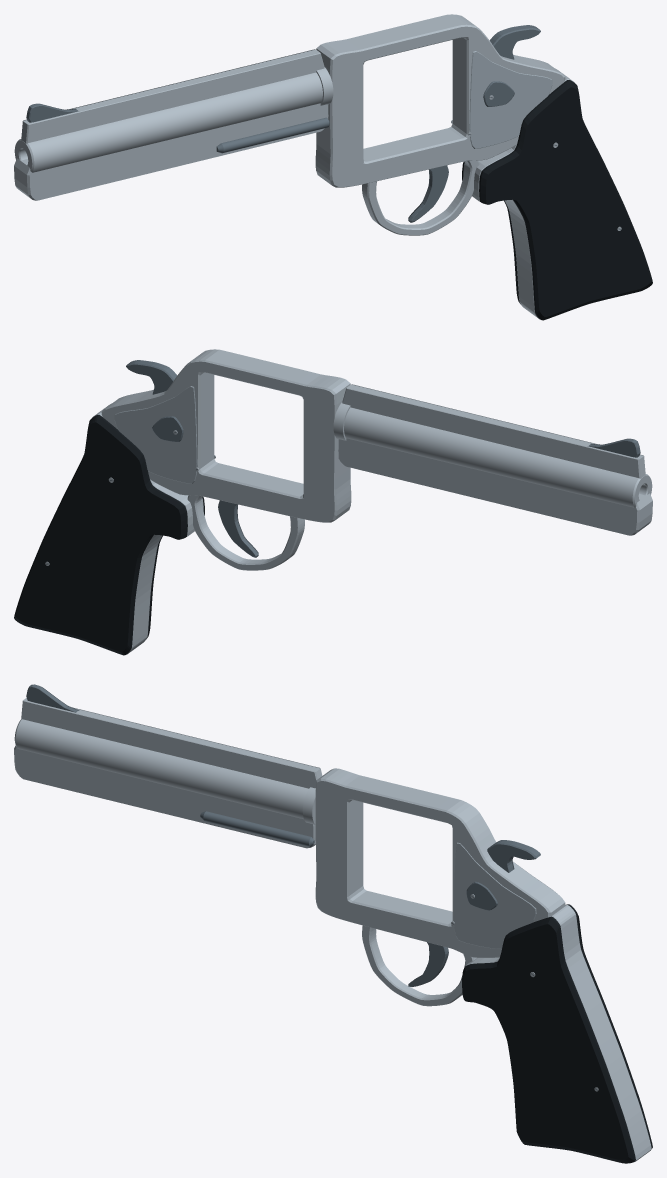
Rendered from body_v02.glb.
3 views of the same model, one above another, from view 1: azimuth 30°, elevation 25°; view 2: azimuth 150°, elevation 25°; view 3: azimuth 330°, elevation 25° (orthographic).
Parts seen in each view (by area): view 1: BlackRoundedGrip, OpenCylinderFrame, HollowRoundBarrel, FullLengthLowerShroud, UpperBarrelRib, RearSidePlate, OpenCurvedTriggerGuard, CurvedGripFrame, RecessedEjectorRod, CurvedTrigger, ExposedCurvedHammer, CylinderReleaseLatch (+1 smaller); view 2: BlackRoundedGrip, OpenCylinderFrame, HollowRoundBarrel, FullLengthLowerShroud, UpperBarrelRib, RearSidePlate, OpenCurvedTriggerGuard, CurvedGripFrame, CurvedTrigger, ExposedCurvedHammer, CylinderReleaseLatch, FrontSight; view 3: BlackRoundedGrip, OpenCylinderFrame, HollowRoundBarrel, FullLengthLowerShroud, UpperBarrelRib, CurvedGripFrame, RearSidePlate, OpenCurvedTriggerGuard, RecessedEjectorRod, ExposedCurvedHammer, CurvedTrigger.
Boxes of the visible parts, x1,y1,x2,y2 form: BlackRoundedGrip: (462, 80, 652, 320); OpenCylinderFrame: (315, 14, 565, 187); HollowRoundBarrel: (14, 72, 322, 172); FullLengthLowerShroud: (14, 103, 328, 200); UpperBarrelRib: (21, 49, 324, 143); RearSidePlate: (469, 51, 552, 148); OpenCurvedTriggerGuard: (362, 160, 479, 235); CurvedGripFrame: (463, 68, 574, 319); RecessedEjectorRod: (216, 117, 329, 153); CurvedTrigger: (408, 165, 448, 222); ExposedCurvedHammer: (490, 25, 540, 59); CylinderReleaseLatch: (483, 81, 514, 106); BlackRoundedGrip: (14, 415, 204, 655); OpenCylinderFrame: (101, 349, 351, 522); HollowRoundBarrel: (344, 407, 652, 507); FullLengthLowerShroud: (338, 438, 652, 535); UpperBarrelRib: (342, 384, 645, 478); RearSidePlate: (114, 386, 197, 483); OpenCurvedTriggerGuard: (187, 495, 304, 570); CurvedGripFrame: (92, 403, 203, 654); CurvedTrigger: (218, 500, 258, 557); ExposedCurvedHammer: (126, 360, 176, 394); CylinderReleaseLatch: (152, 416, 183, 441); FrontSight: (588, 438, 640, 457); BlackRoundedGrip: (462, 904, 652, 1163); OpenCylinderFrame: (315, 768, 565, 957); HollowRoundBarrel: (14, 719, 315, 819); FullLengthLowerShroud: (14, 745, 315, 848); UpperBarrelRib: (21, 698, 322, 788); CurvedGripFrame: (466, 905, 651, 1162); RearSidePlate: (453, 842, 536, 948); OpenCurvedTriggerGuard: (362, 925, 476, 1006); RecessedEjectorRod: (200, 811, 314, 846); ExposedCurvedHammer: (487, 840, 540, 872); CurvedTrigger: (408, 942, 448, 986).
Bounding box in the file's own units: 14.47 × 7.34 × 0.941.
